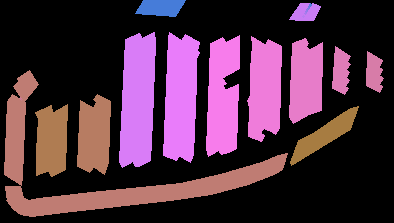parkingspot: (5, 153, 287, 216), (290, 106, 358, 165), (119, 33, 144, 167), (132, 32, 155, 166), (175, 34, 199, 162), (163, 32, 185, 160), (206, 37, 227, 156), (247, 36, 268, 141), (259, 39, 281, 134), (4, 94, 25, 185), (289, 38, 310, 123), (90, 94, 110, 174), (77, 100, 98, 172), (218, 84, 238, 154), (303, 42, 322, 115), (48, 104, 67, 176), (35, 105, 54, 175), (332, 46, 350, 94), (135, 0, 185, 16), (13, 70, 38, 101), (221, 35, 239, 75), (366, 51, 383, 92), (289, 3, 310, 20), (301, 3, 320, 20)
